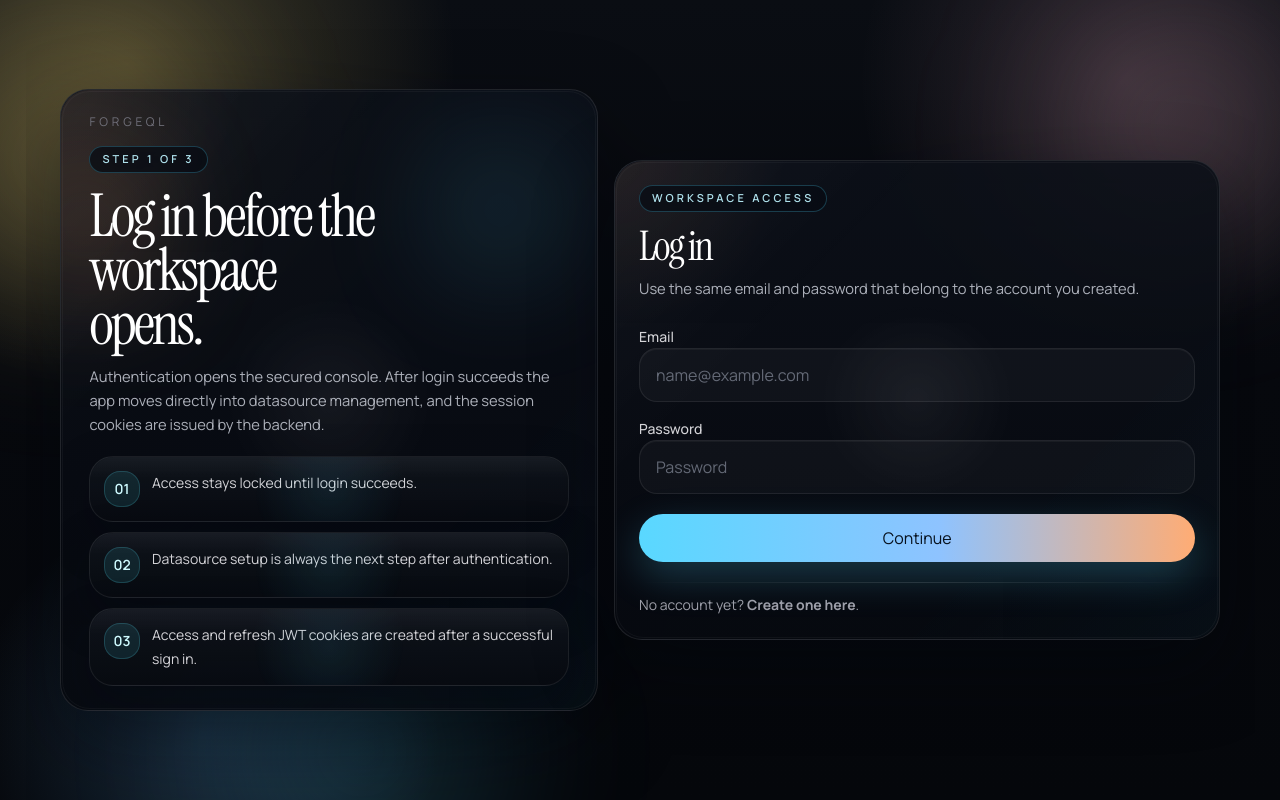
Test case: auth flow › submits the login form and routes into datasource management on success
Type "user@example.com" into the field with placeholder "name@example.com".
click(917, 374); type("user@example.com")  # box [639,348,1195,402]
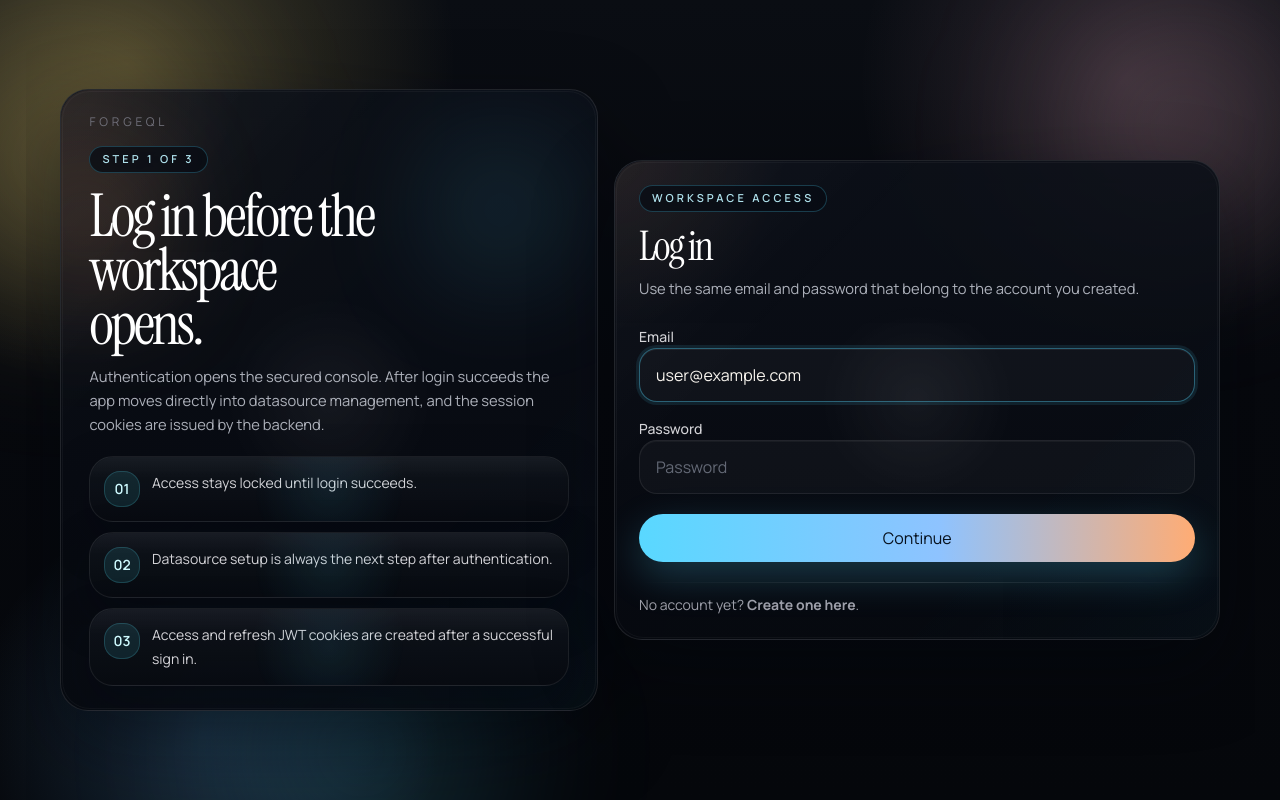
Type "secret123" into the password field with placeholder "Password".
click(917, 466); type("secret123")  # box [639,440,1195,494]
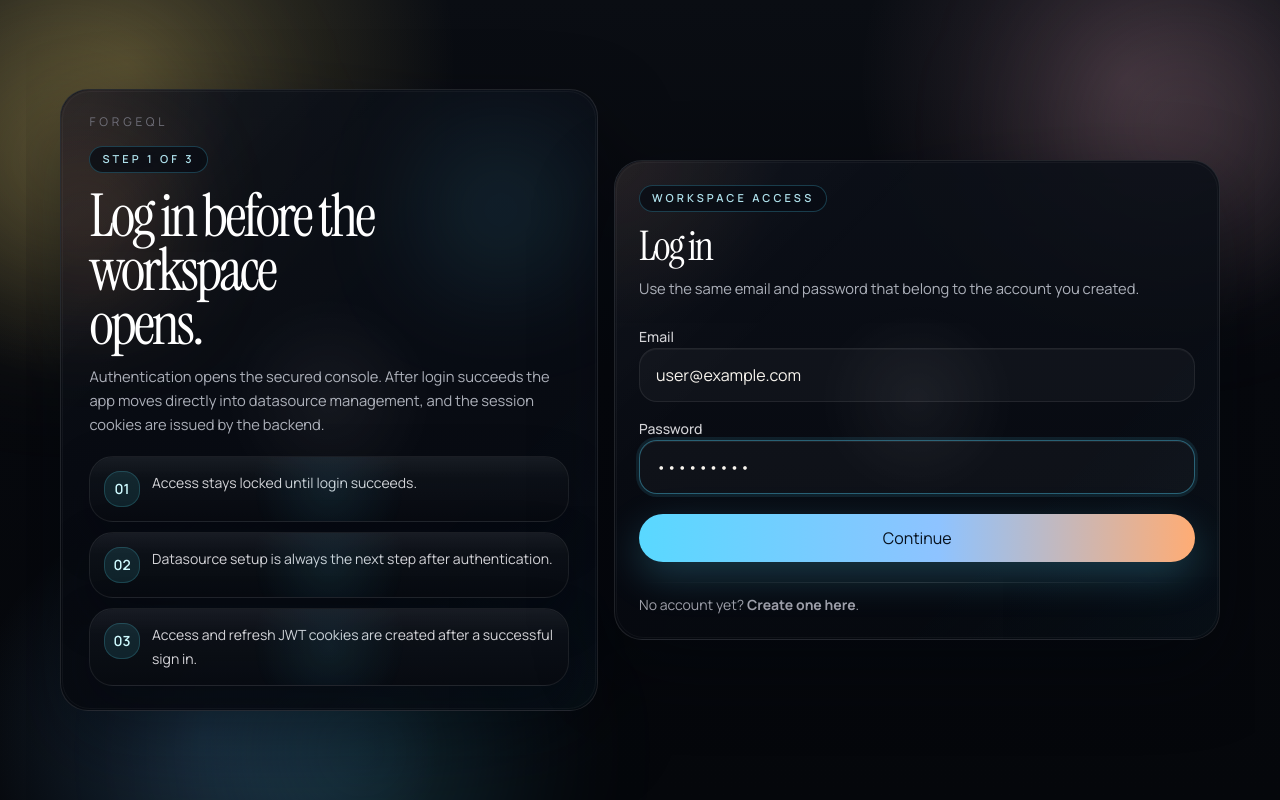
Click the button "Continue".
click(917, 538)  # box [639,514,1195,562]
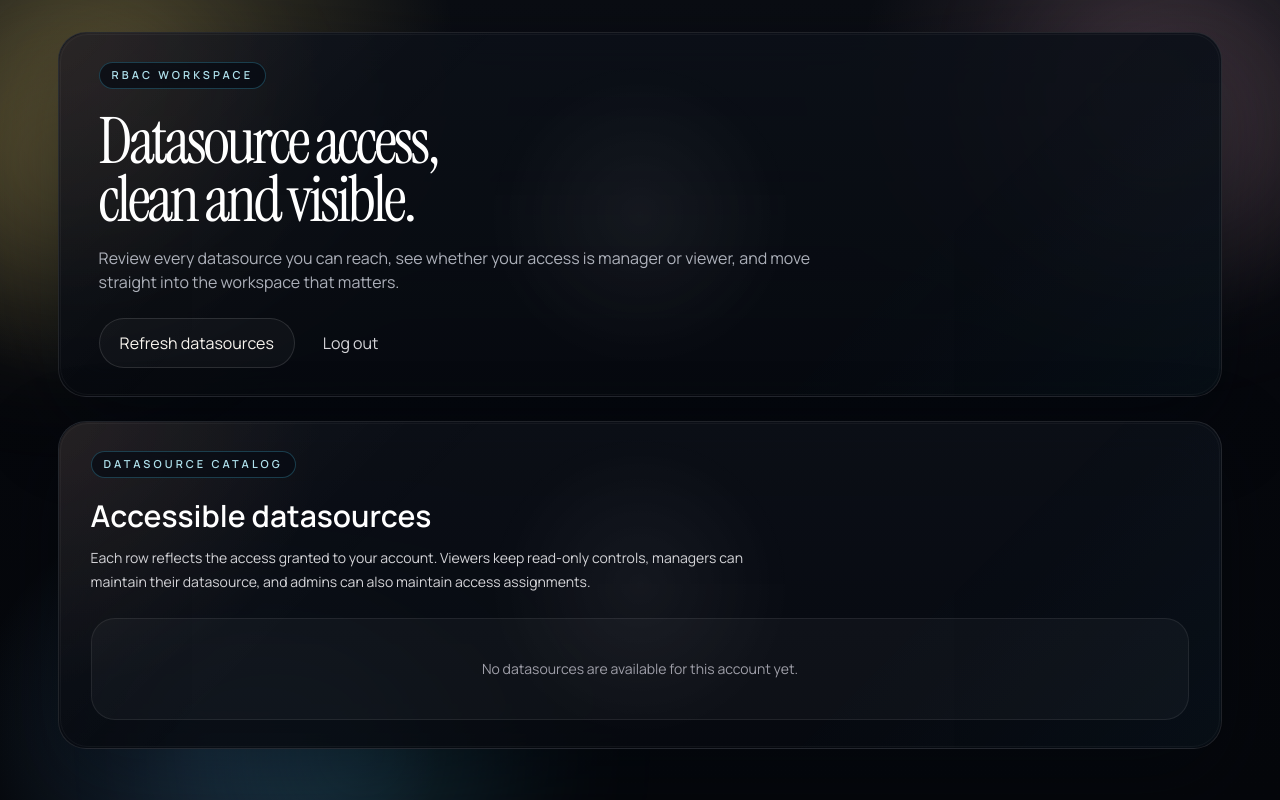
expect the heading "Accessible datasources" is shown: met, box [91,495,431,536]
expect the button "Refresh datasources" is shown: met, box [99,318,295,368]
